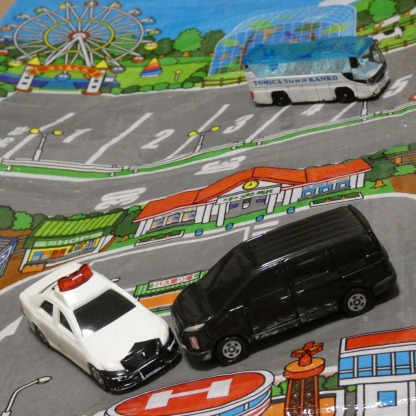car: (178, 206, 397, 363), (24, 248, 183, 392), (244, 36, 387, 105)
